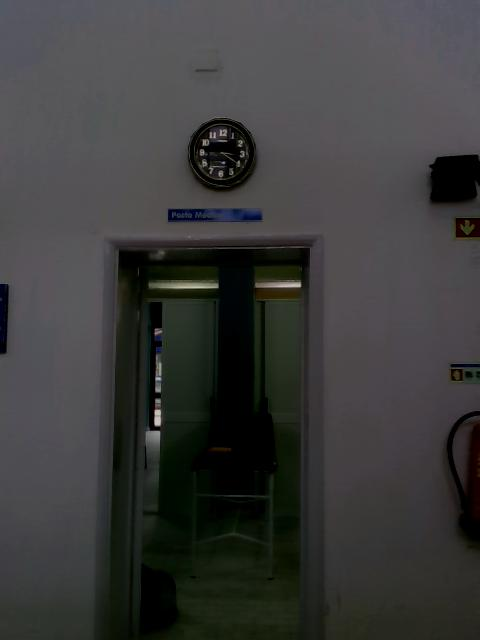open_door: (90, 232, 325, 639)
